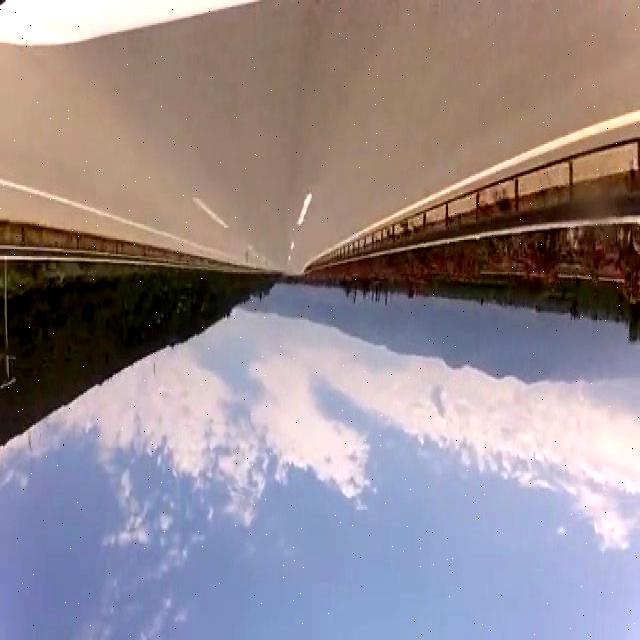lane: (362, 110, 640, 230), (0, 179, 215, 252), (192, 197, 229, 226), (298, 194, 312, 227)
road: (1, 4, 640, 274)
